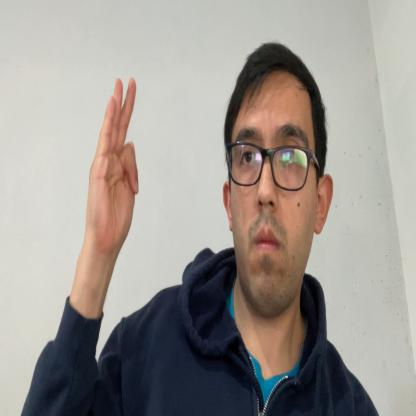F: (86, 76, 138, 264)
